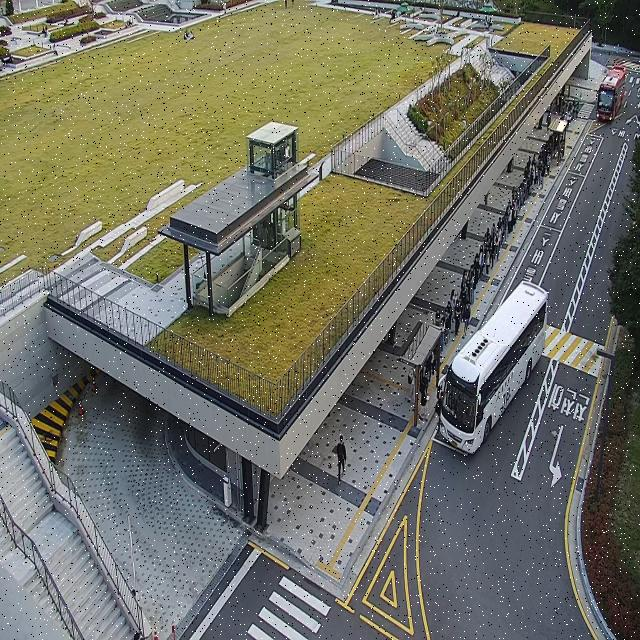queue: (416, 96, 580, 428)
